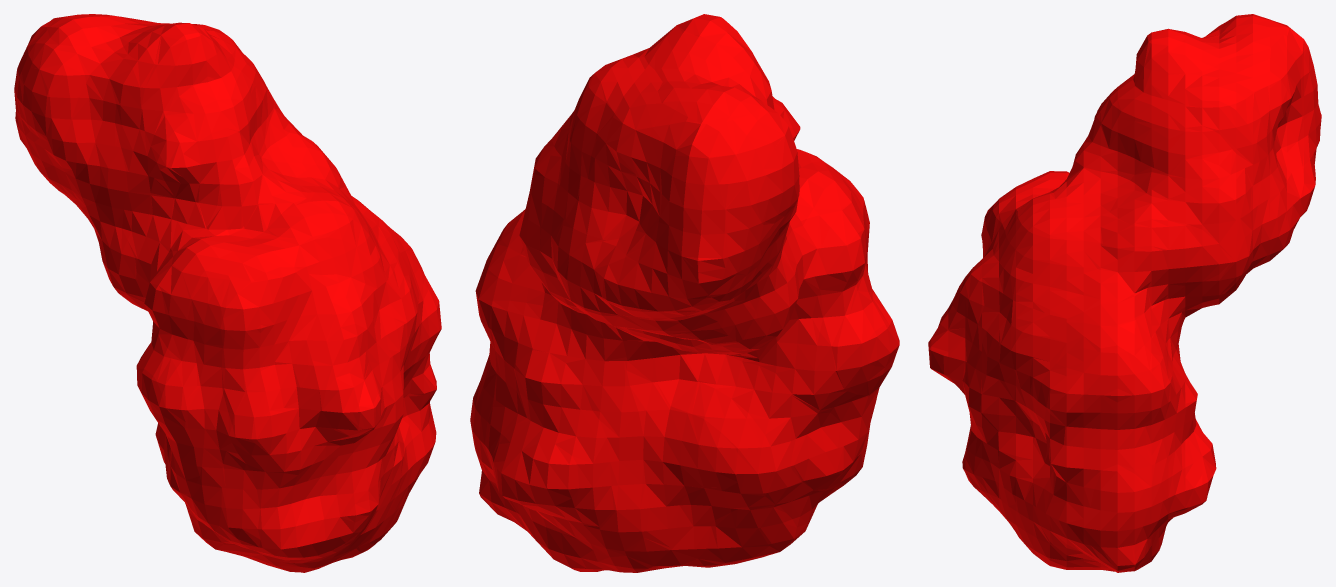
Rendered from dadX_coarse.dae.
3 renders of one model, left to right at view 1: azimuth 30°, elevation 25°; view 2: azimuth 150°, elevation 25°; view 3: azimuth 270°, elevation 25°, orthographic. The views are drawn at different scales.
Parts seen in each view (by area): view 1: dadX; view 2: dadX; view 3: dadX.
Part boxes in pixels (<box>): dadX: <box>14,14,441,572</box>; dadX: <box>470,14,899,572</box>; dadX: <box>928,14,1321,572</box>.
Size of the model in its own units: 51.63 by 76.89 by 56.63.
